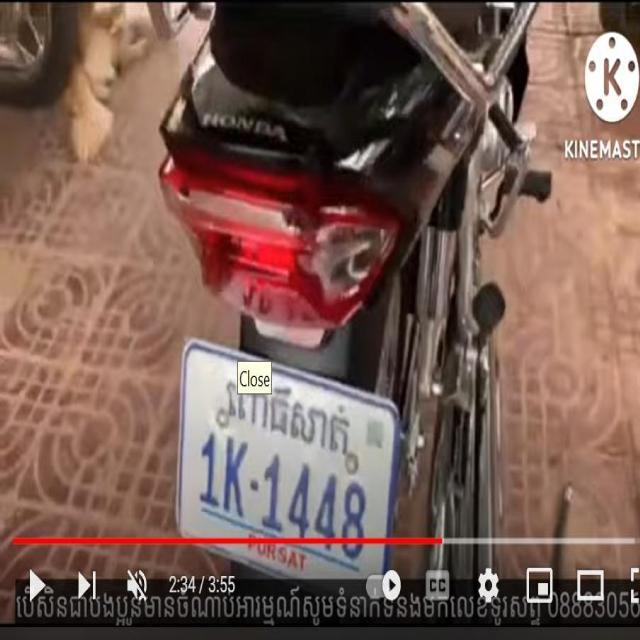Pursat: (227, 376, 348, 460)
